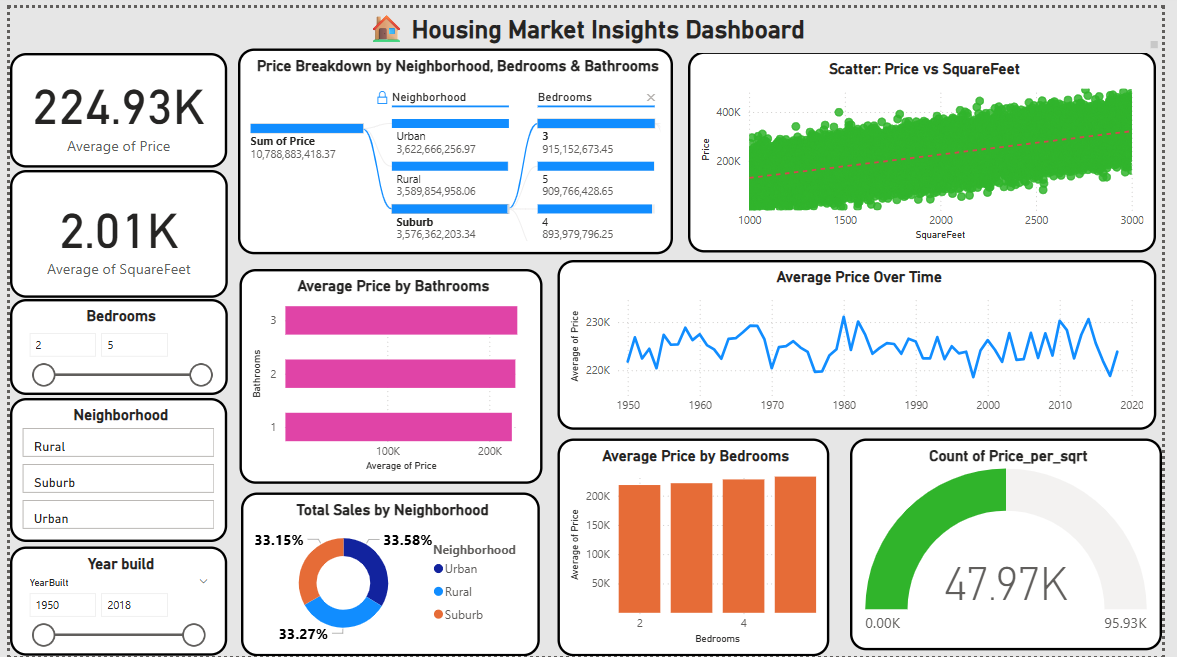

The page's visual inventory and layout, read from the dashboard file:
{"tool":"powerbi","page":{"name":"Page 1","canvas":[1280,720],"ordinal":0},"visuals":[{"type":"card","fields":{"Values":["Avg(housing_price_dataset.Price)"]},"box":[0,50,241.2,127.5],"z":0},{"type":"card","fields":{"Values":["Avg(housing_price_dataset.SquareFeet)"]},"box":[0,180,241.7,141.7],"z":1000},{"type":"advancedSlicerVisual","fields":{"Values":["housing_price_dataset.Neighborhood"]},"box":[0,433.3,241.1,160],"z":2000},{"type":"slicer","title":"Bedrooms","fields":{"Values":["housing_price_dataset.Bedrooms"]},"box":[0,323.3,241.7,106.7],"z":3000},{"type":"slicer","title":"Year build","fields":{"Values":["housing_price_dataset.YearBuilt"]},"box":[0,598.9,241.1,121.1],"z":4000},{"type":"donutChart","title":"Total Sales by Neighborhood","fields":{"Category":["housing_price_dataset.Neighborhood"],"Y":["Sum(housing_price_dataset.Price)"]},"box":[256.7,538.3,331.7,181.7],"z":5000},{"type":"columnChart","title":"Average Price by Bedrooms","fields":{"Category":["housing_price_dataset.Bedrooms"],"Y":["Avg(housing_price_dataset.Price)"]},"box":[608.3,478.3,301.7,241.7],"z":6000},{"type":"barChart","title":"Average Price by Bathrooms","fields":{"Category":["housing_price_dataset.Bathrooms"],"Y":["Avg(housing_price_dataset.Price)"]},"box":[255,290,336.7,238.3],"z":7000},{"type":"scatterChart","title":"Scatter: Price vs SquareFeet","fields":{"X":["housing_price_dataset.SquareFeet"],"Y":["housing_price_dataset.Price"]},"box":[753.3,48.3,520,223.3],"z":8000},{"type":"lineChart","title":"Average Price Over Time","fields":{"Category":["housing_price_dataset.YearBuilt"],"Y":["Avg(housing_price_dataset.Price)"]},"box":[608.3,280,665,188.3],"z":10000},{"type":"textbox","title":"🏠 Housing Market Insights Dashboard","box":[0,0,1280,50],"z":11000},{"type":"gauge","fields":{"Y":["CountNonNull(housing_price_dataset.Price_per_sqrt)"]},"box":[933.3,478.3,346.7,235],"z":11002},{"type":"decompositionTreeVisual","title":"Price Breakdown by Neighborhood, Bedrooms & Bathrooms","fields":{"Analyze":["Sum(housing_price_dataset.Price)"],"ExplainBy":["housing_price_dataset.Neighborhood","housing_price_dataset.Bedrooms","housing_price_dataset.Bathrooms"]},"box":[253.3,45,483.3,228.3],"z":11003}]}

Visuals, with their boxes in screenshot pixels (x1, y1, x2, y2), scaled from the page's 1280x720 canvas onto the 1177x657 screenshot:
card - Avg(housing_price_dataset.Price): region(0, 46, 222, 162)
card - Avg(housing_price_dataset.SquareFeet): region(0, 164, 222, 294)
advancedSlicerVisual - housing_price_dataset.Neighborhood: region(0, 395, 222, 541)
"Bedrooms" slicer: region(0, 295, 222, 392)
"Year build" slicer: region(0, 546, 222, 656)
"Total Sales by Neighborhood" donutChart: region(236, 491, 541, 656)
"Average Price by Bedrooms" columnChart: region(559, 436, 837, 656)
"Average Price by Bathrooms" barChart: region(234, 265, 544, 482)
"Scatter: Price vs SquareFeet" scatterChart: region(693, 44, 1171, 248)
"Average Price Over Time" lineChart: region(559, 256, 1171, 427)
"🏠 Housing Market Insights Dashboard" textbox: region(0, 0, 1176, 46)
gauge - CountNonNull(housing_price_dataset.Price_per_sqrt): region(858, 436, 1176, 651)
"Price Breakdown by Neighborhood, Bedrooms & Bathrooms" decompositionTreeVisual: region(233, 41, 677, 249)
